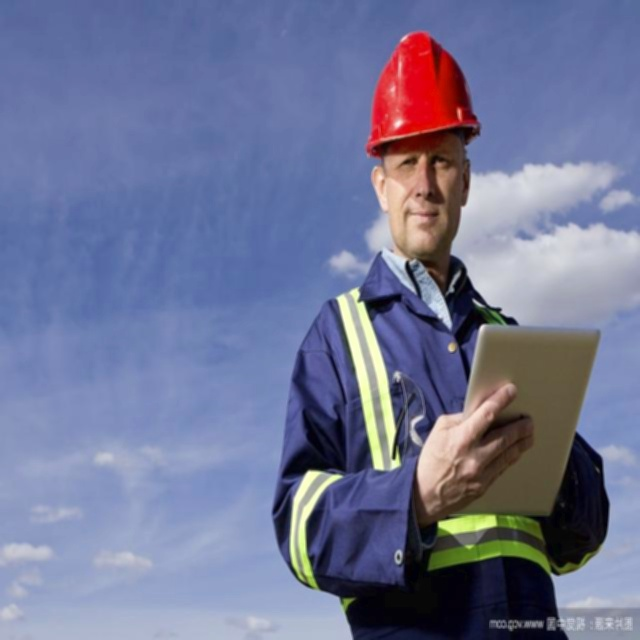Con_Casco: (367, 30, 477, 257)
Con_Chaleco: (296, 280, 536, 598)
